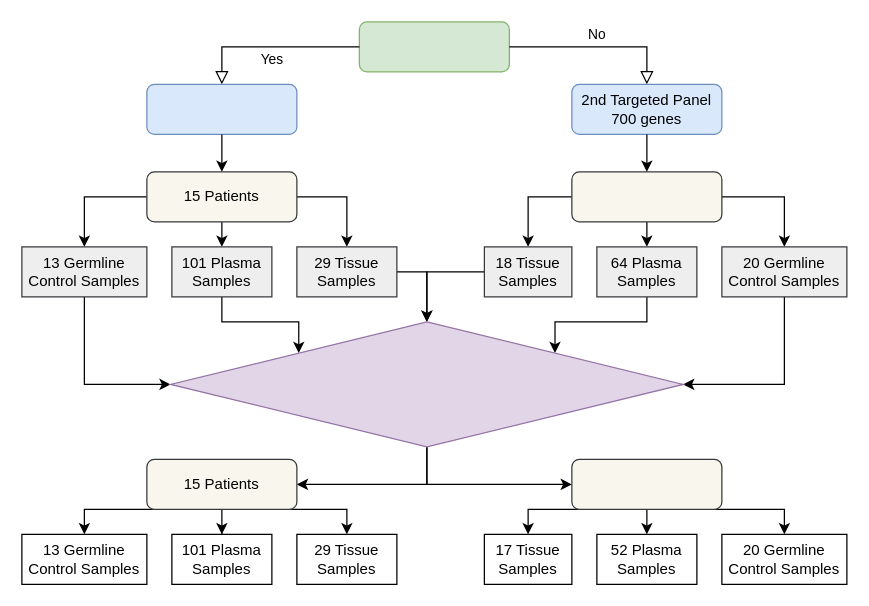
Image size: 869x606. Some labels were removed from this diagram. The shapes that lost their labels are listed below. From the top down, each one's box as (x1, y1, x2, y2) in pixels, then its label:
(358, 21, 509, 72): 29 HGSC Patients
(146, 83, 297, 134): 1st Targeted Panel 500 genes
(571, 171, 722, 222): 20 Patients
(169, 321, 683, 447): Quality Check and Filtering For running CNV Pipeline
(571, 458, 722, 509): 14 Patients
